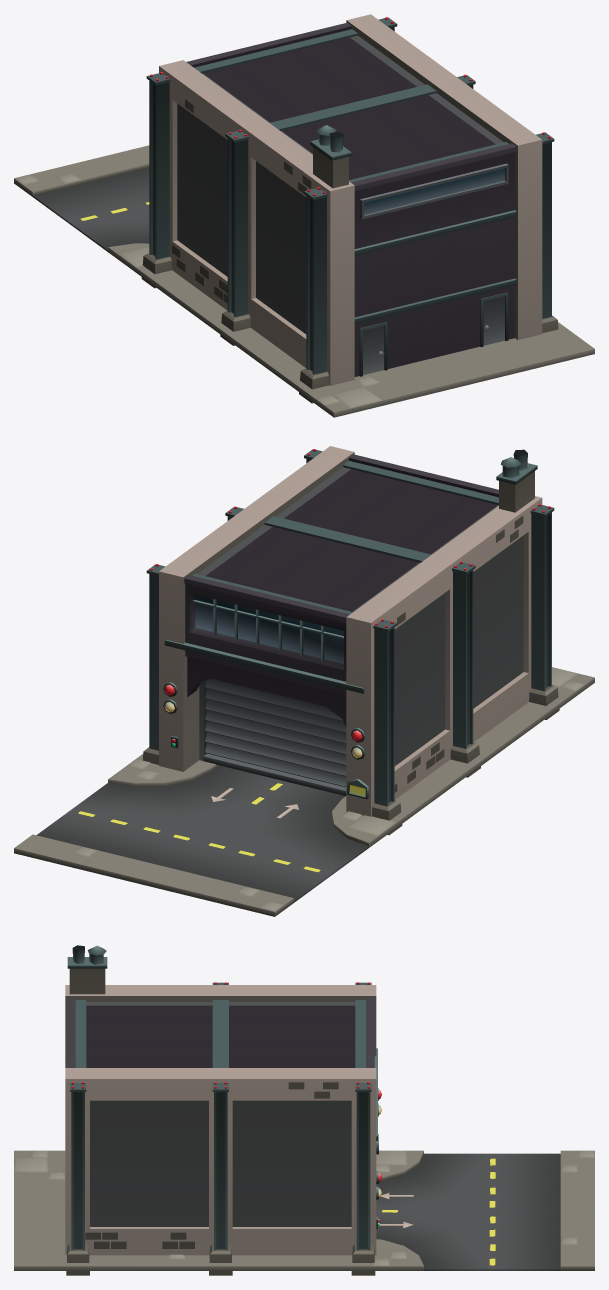
File: Warehouse_1B.fbx
3 renders of one model, top to bottom at view 1: azimuth 30°, elevation 25°; view 2: azimuth 150°, elevation 25°; view 3: azimuth 270°, elevation 25°, orthographic. The views are drawn at different scales.
Parts seen in each view (by area): view 1: Warehouse_1B, Warehouse_1B_Base; view 2: Warehouse_1B, Warehouse_1B_Base, Warehouse_Door_1B; view 3: Warehouse_1B, Warehouse_1B_Base.
Part boxes in pixels (bbox=[...]): Warehouse_1B: bbox=[141, 14, 558, 403]; Warehouse_1B_Base: bbox=[14, 145, 594, 417]; Warehouse_1B: bbox=[142, 446, 559, 835]; Warehouse_1B_Base: bbox=[14, 667, 594, 916]; Warehouse_Door_1B: bbox=[203, 679, 346, 795]; Warehouse_1B: bbox=[65, 945, 381, 1275]; Warehouse_1B_Base: bbox=[14, 1150, 594, 1270].
Bounding box in the file's own units: 16 × 15.14 × 34.
